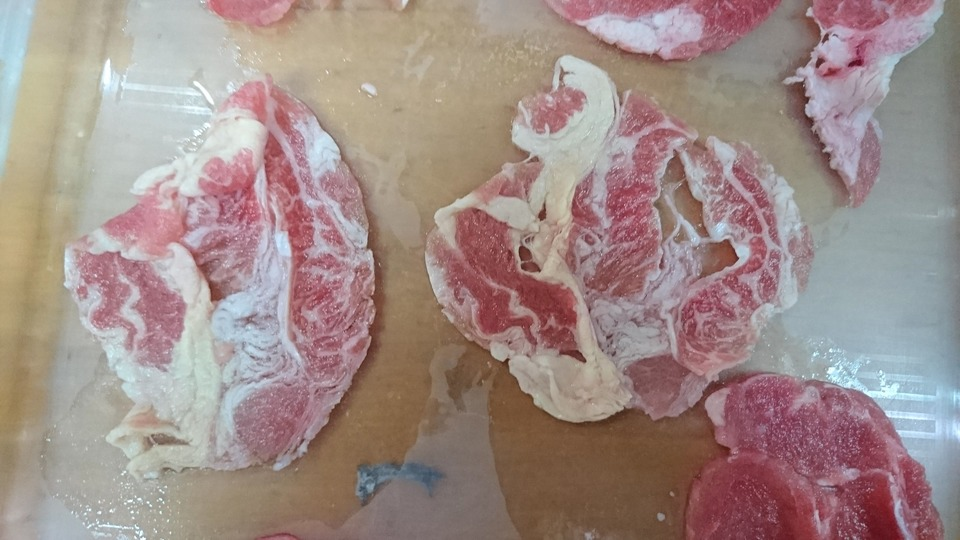restructured meat: (80, 83, 385, 470), (443, 74, 804, 376), (697, 384, 948, 538), (809, 4, 929, 191), (547, 2, 785, 62)
